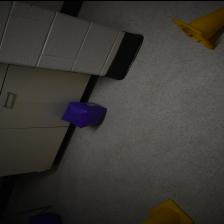cone: (171, 0, 224, 50), (136, 197, 194, 224)
cube: (60, 101, 106, 128)
